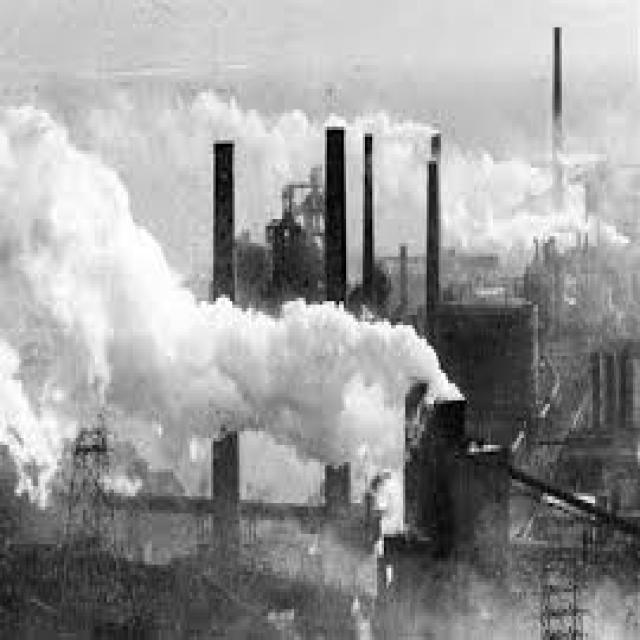Smoke: (0, 124, 200, 498), (214, 298, 456, 464), (372, 110, 626, 267), (212, 70, 358, 228)
